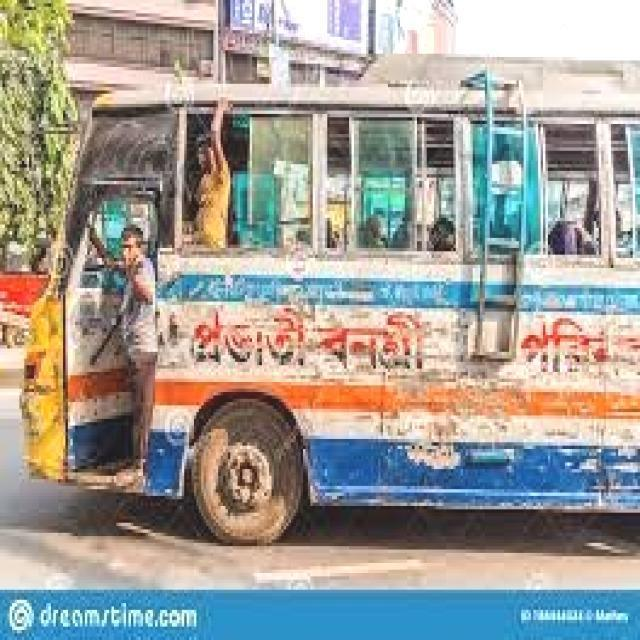Bus: (22, 49, 640, 557)
